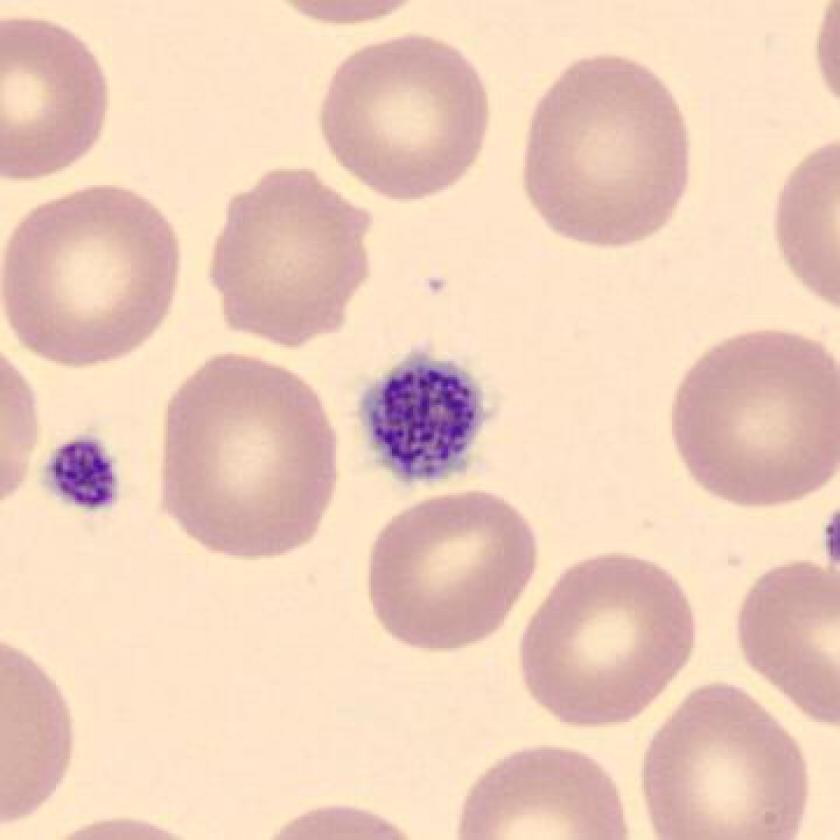platelets: (346, 337, 498, 496), (38, 425, 134, 527)
